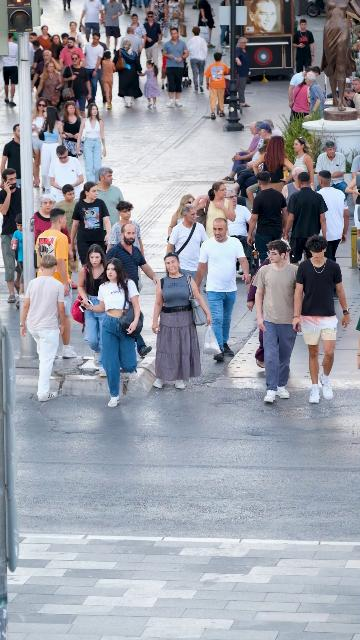person: (292, 234, 351, 405), (78, 257, 142, 408), (150, 251, 212, 391), (252, 239, 302, 405), (195, 217, 251, 364), (34, 208, 78, 363), (20, 254, 65, 403), (247, 239, 292, 369), (75, 243, 110, 377), (282, 171, 329, 264), (247, 170, 288, 265), (105, 223, 160, 293), (70, 181, 112, 268), (30, 194, 73, 277), (251, 136, 296, 210), (166, 204, 209, 281), (316, 170, 350, 263), (230, 122, 272, 196), (0, 168, 22, 303), (224, 188, 254, 278), (193, 181, 237, 239), (76, 104, 107, 185), (39, 105, 66, 197), (221, 122, 262, 182), (93, 166, 126, 236), (107, 200, 145, 258), (47, 145, 85, 202), (162, 28, 189, 108), (315, 140, 349, 201), (114, 39, 143, 108), (60, 53, 92, 115), (31, 98, 53, 188), (204, 52, 231, 120), (54, 185, 80, 255), (0, 124, 23, 192), (186, 26, 209, 94), (246, 144, 269, 209), (84, 32, 104, 106), (288, 66, 321, 110), (167, 194, 196, 243), (31, 49, 63, 93), (32, 62, 62, 108), (59, 101, 83, 158), (10, 214, 24, 311), (1, 32, 19, 107), (104, 0, 125, 62), (234, 36, 252, 108), (291, 136, 315, 189), (143, 11, 162, 77), (79, 0, 105, 48), (292, 19, 315, 73), (290, 74, 314, 121), (138, 60, 160, 110), (99, 51, 117, 109), (305, 71, 325, 120), (166, 0, 185, 49), (345, 154, 360, 212), (198, 0, 216, 48), (282, 167, 305, 204), (59, 37, 86, 67), (344, 86, 360, 136), (149, 0, 169, 38), (29, 40, 45, 86), (220, 0, 232, 48), (127, 14, 147, 40), (126, 26, 144, 53), (67, 22, 85, 49), (130, 0, 151, 23), (37, 25, 53, 51), (49, 34, 63, 63), (263, 119, 283, 137), (28, 32, 39, 50), (351, 77, 360, 96), (120, 0, 131, 15), (60, 33, 69, 47), (63, 0, 71, 10)
